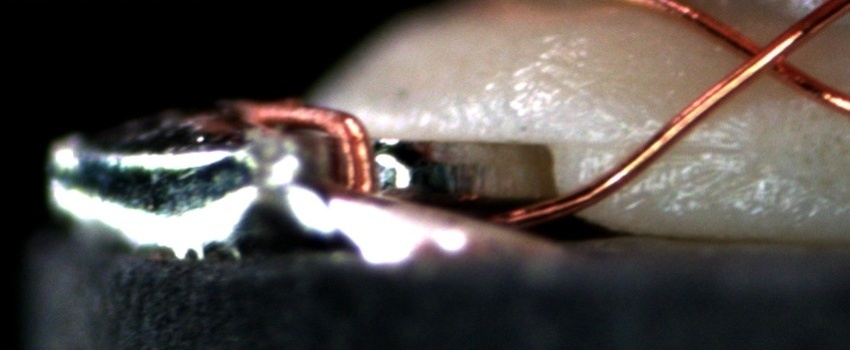CL: (725, 25, 807, 89)
DL: (585, 117, 745, 174)
TE: (216, 94, 377, 212)
